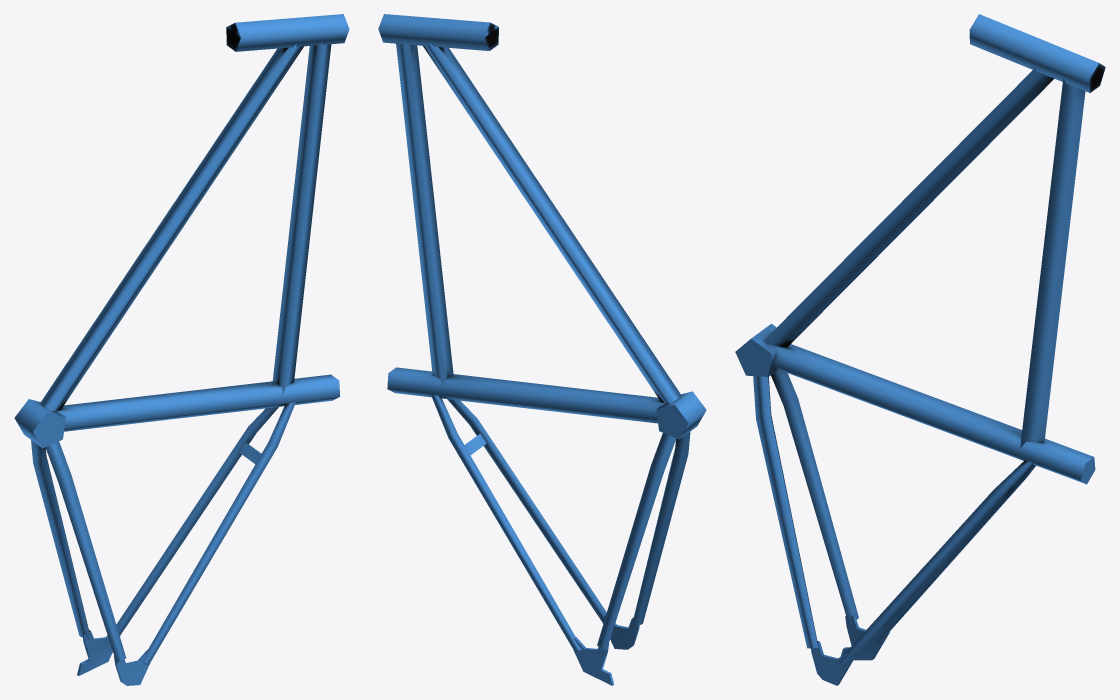
Rendered from Anima Cuadro Alineacion.FBX.
3 renders of one model, left to right at view 1: azimuth 30°, elevation 25°; view 2: azimuth 150°, elevation 25°; view 3: azimuth 330°, elevation 25°, orthographic. The views are drawn at different scales.
Parts seen in each view (by area): view 1: Cuadro; view 2: Cuadro; view 3: Cuadro.
Part boxes in pixels (bbox=[...]): Cuadro: bbox=[14, 14, 349, 685]; Cuadro: bbox=[378, 14, 706, 685]; Cuadro: bbox=[735, 14, 1105, 685].
Bounding box in the file's own units: 0.5997 × 1.13 × 0.1208.
Materials: 1 (1 with a texture image).
